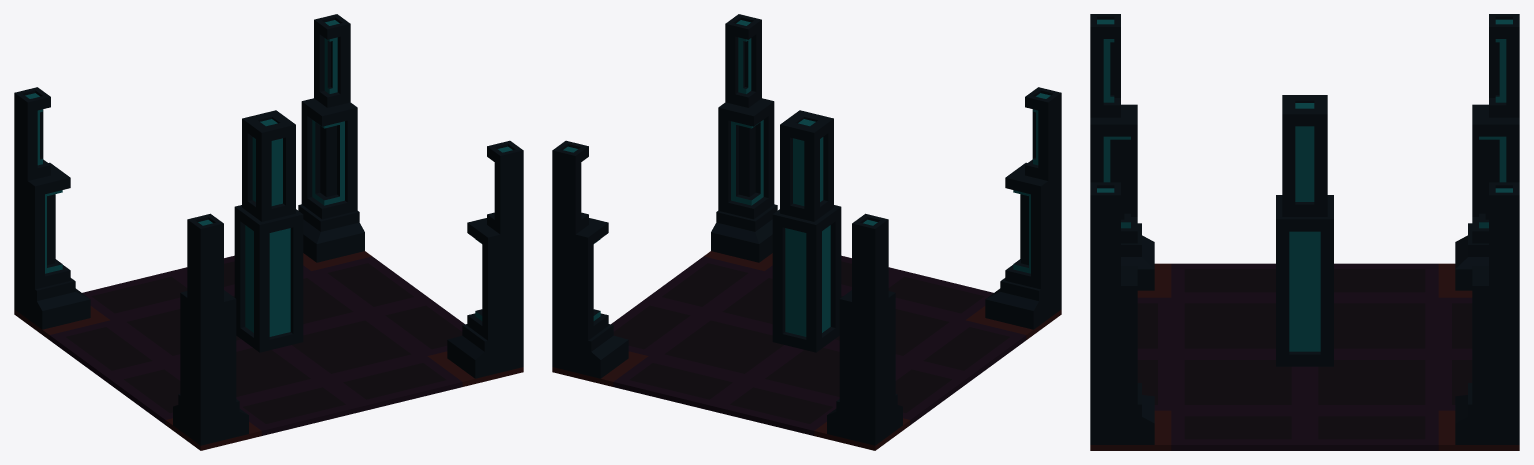
The model's file is FourMaze.fbx.
3 renders of one model, left to right at view 1: azimuth 30°, elevation 25°; view 2: azimuth 150°, elevation 25°; view 3: azimuth 270°, elevation 25°, orthographic. The views are drawn at different scales.
Parts seen in each view (by area): view 1: Four_way; view 2: Four_way; view 3: Four_way.
Part boxes in pixels (x1,y1,x2,y2): Four_way: [14, 14, 523, 450]; Four_way: [552, 14, 1061, 450]; Four_way: [1090, 14, 1519, 450].
Size of the model in its own units: 1116 by 733 by 1116.
